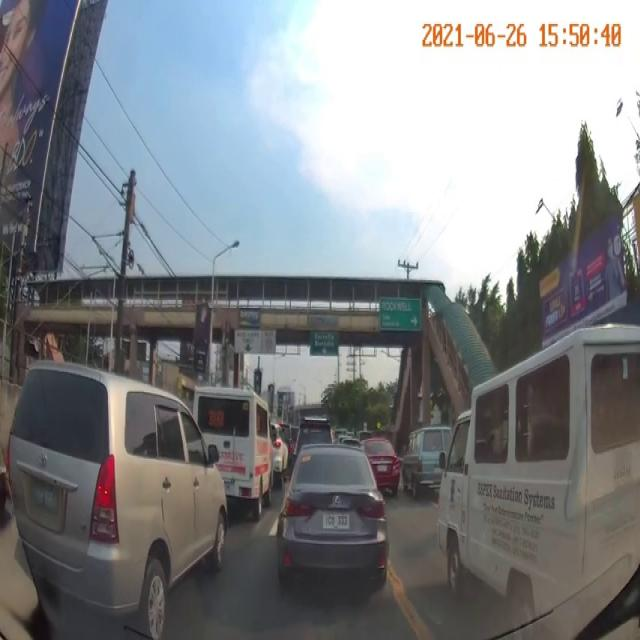car: (440, 334, 636, 598), (17, 368, 226, 604), (407, 426, 453, 498)
